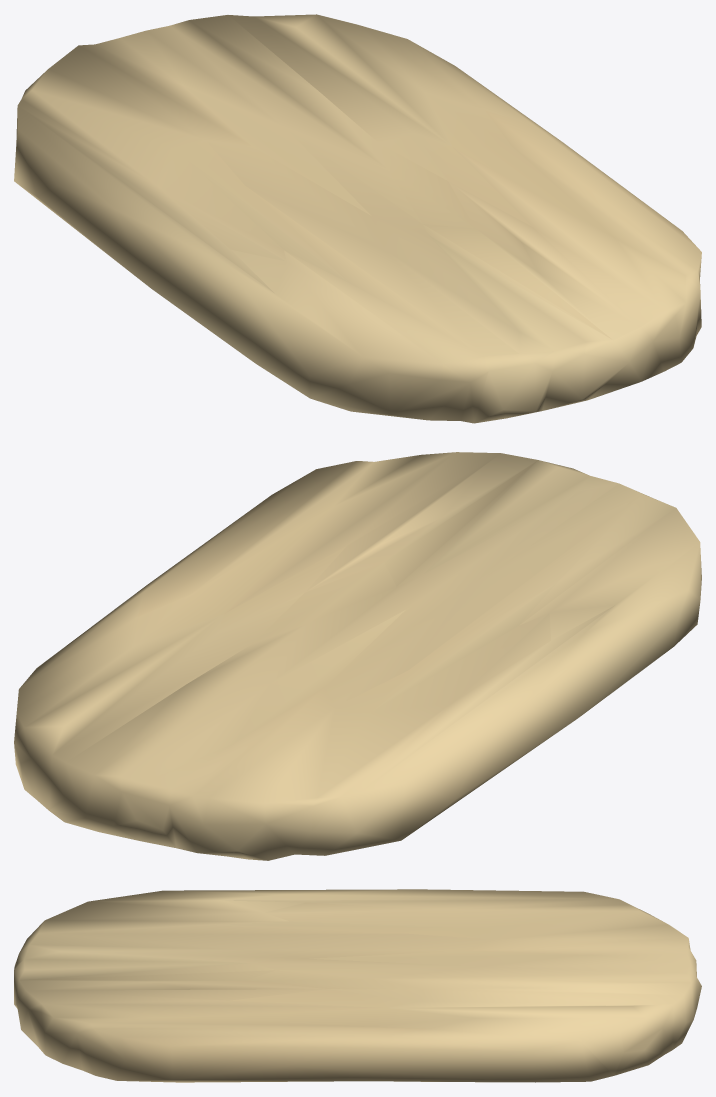
Rendered from shore_lolly_stick_lod2.glb.
The picture shows the model from 3 angles, top to bottom: view 1: azimuth 30°, elevation 25°; view 2: azimuth 150°, elevation 25°; view 3: azimuth 270°, elevation 25°; orthographic projection. The views are drawn at different scales.
Visible parts, largest first — view 1: shore_lolly_stick.001; view 2: shore_lolly_stick.001; view 3: shore_lolly_stick.001.
Part boxes in pixels (<box>): shore_lolly_stick.001: <box>14,14,701,423</box>; shore_lolly_stick.001: <box>14,452,701,860</box>; shore_lolly_stick.001: <box>14,889,701,1082</box>.
Size of the model in its own units: 6.03 by 0.8801 by 10.96.
